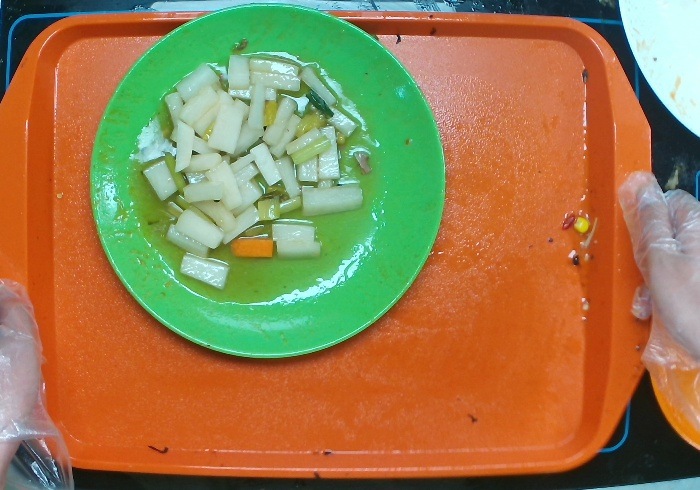HZYJPL-Lv_Se_Yuan_Pan: (84, 1, 455, 369)
